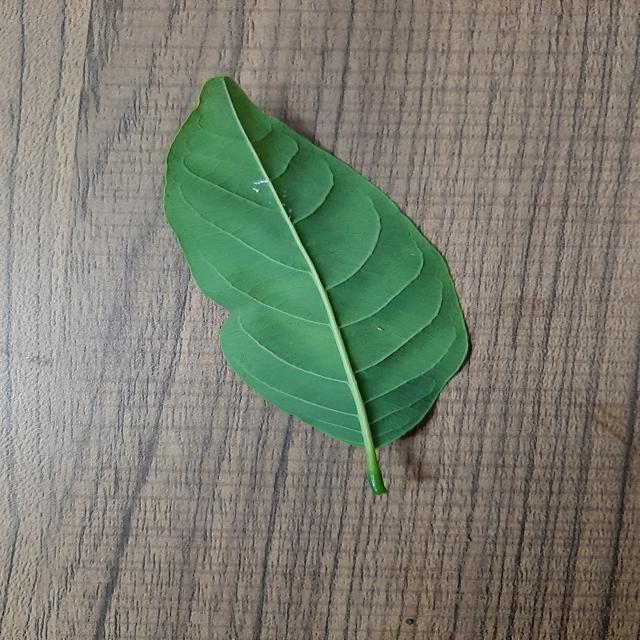seethaphala: (165, 78, 469, 494)
